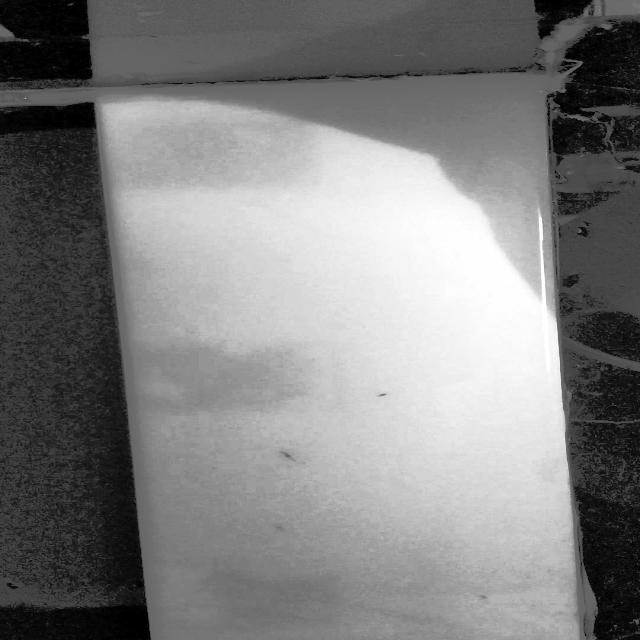shrimp: (272, 449, 302, 463), (368, 390, 398, 400)
